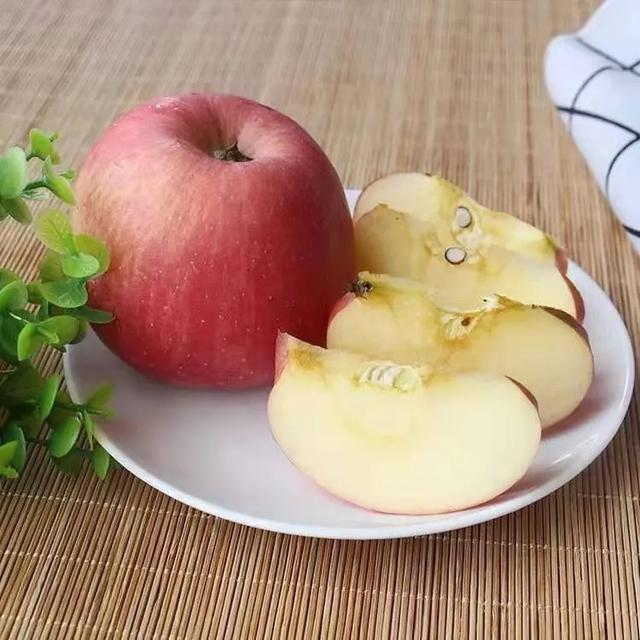apple: (268, 170, 596, 512), (66, 93, 356, 399)
